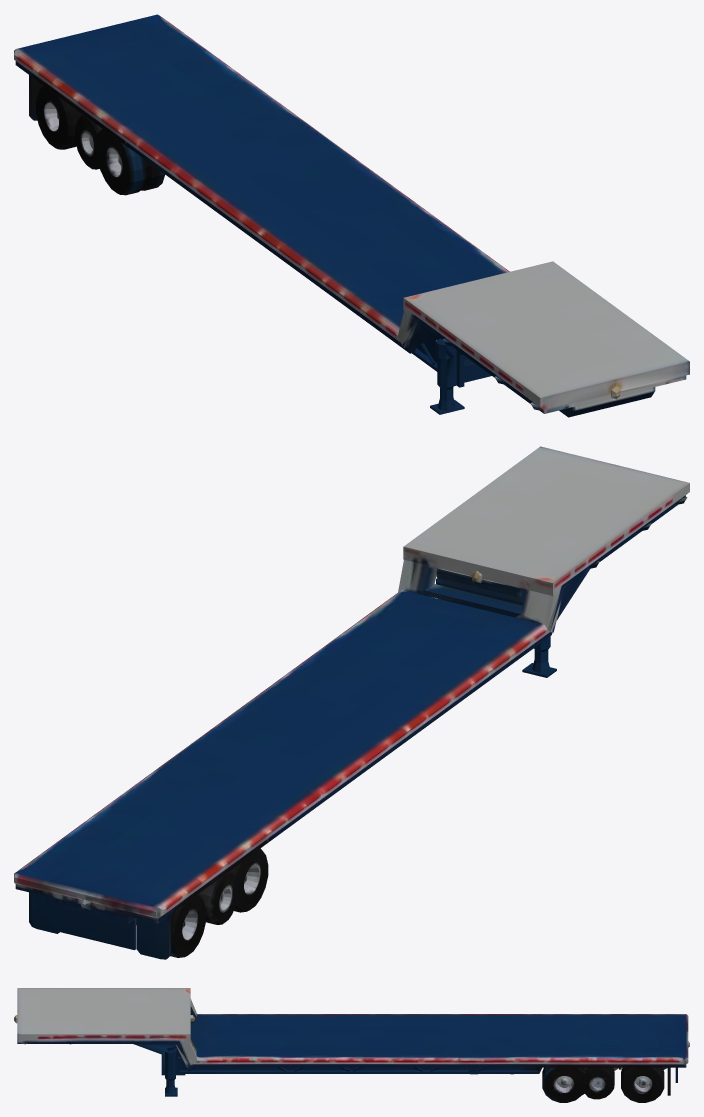
File: compressed_dropdeck3d.glb
The picture shows the model from 3 angles, top to bottom: view 1: azimuth 30°, elevation 25°; view 2: azimuth 150°, elevation 25°; view 3: azimuth 270°, elevation 25°; orthographic projection. The views are drawn at different scales.
Visible parts, largest first — view 1: texture_pbr_v128; view 2: texture_pbr_v128; view 3: texture_pbr_v128.
Part boxes in pixels (x1,y1,x2,y2): texture_pbr_v128: (14, 14, 689, 417); texture_pbr_v128: (14, 446, 689, 959); texture_pbr_v128: (14, 988, 689, 1102).
Bounding box in the file's own units: 20.18 × 13.82 × 119.
Materials: 1 (1 with a texture image).
